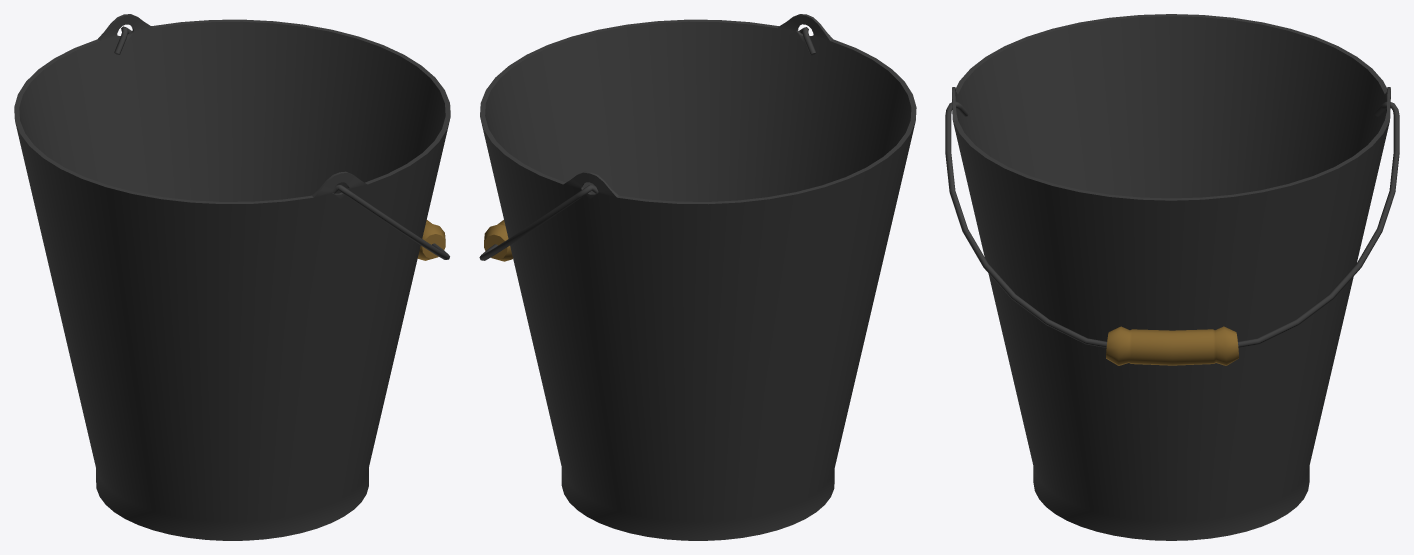
The model's file is office_bucket.fbx.
The picture shows the model from 3 angles, left to right: view 1: azimuth 30°, elevation 25°; view 2: azimuth 150°, elevation 25°; view 3: azimuth 270°, elevation 25°; orthographic projection.
Parts seen in each view (by area): view 1: bucket, handle; view 2: bucket, handle; view 3: bucket, handle.
Boxes of the visible parts, x1=… form: bucket: x1=14, y1=14, x2=450, y2=540; handle: x1=114, y1=26, x2=449, y2=260; bucket: x1=480, y1=14, x2=916, y2=540; handle: x1=479, y1=27, x2=815, y2=261; bucket: x1=952, y1=14, x2=1390, y2=540; handle: x1=945, y1=101, x2=1399, y2=365.
Size of the model in its own units: 32.51 by 31.95 by 33.45.
